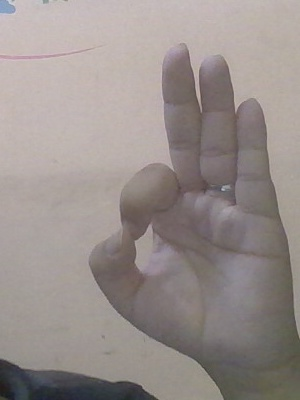F: (87, 41, 300, 386)
